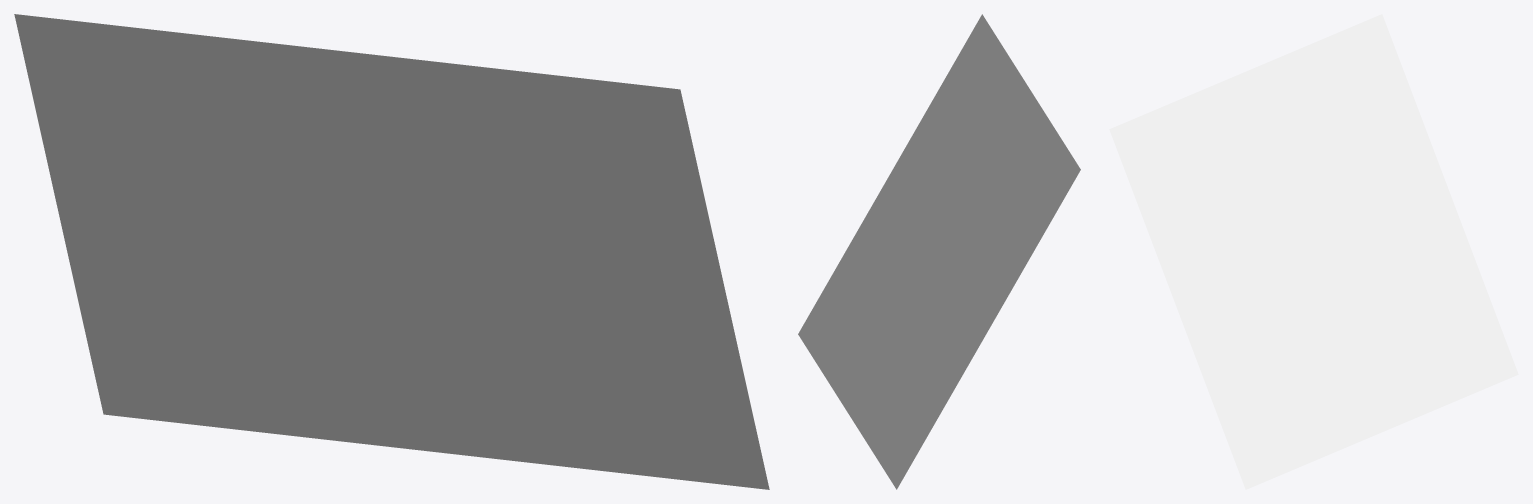
The model's file is fade to white.fbx.
The picture shows the model from 3 angles, left to right: view 1: azimuth 30°, elevation 25°; view 2: azimuth 150°, elevation 25°; view 3: azimuth 270°, elevation 25°; orthographic projection. The views are drawn at different scales.
Visible parts, largest first — view 1: Glow; view 2: Glow; view 3: Glow.
Boxes of the visible parts, x1,y1,x2,y2 form: Glow: (14,14,769,489); Glow: (798,14,1080,489); Glow: (1109,14,1518,489).
Bounding box in the file's own units: 0.2701 × 0.2206 × 0.2701.
